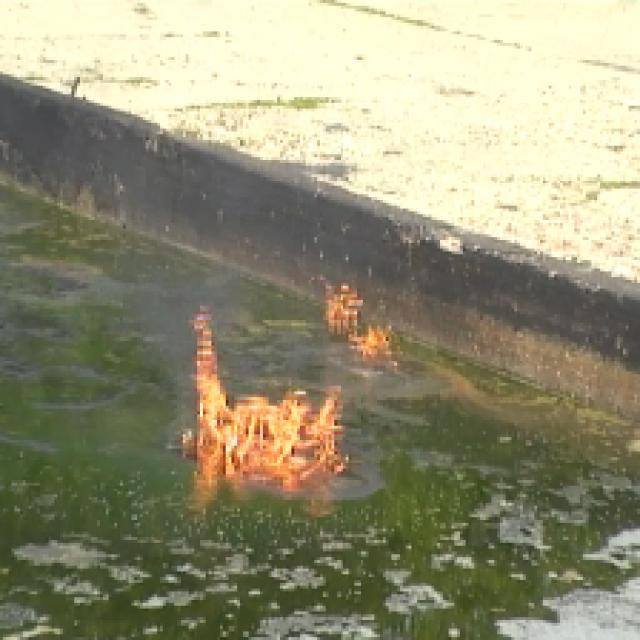Fire: (129, 272, 443, 536)
